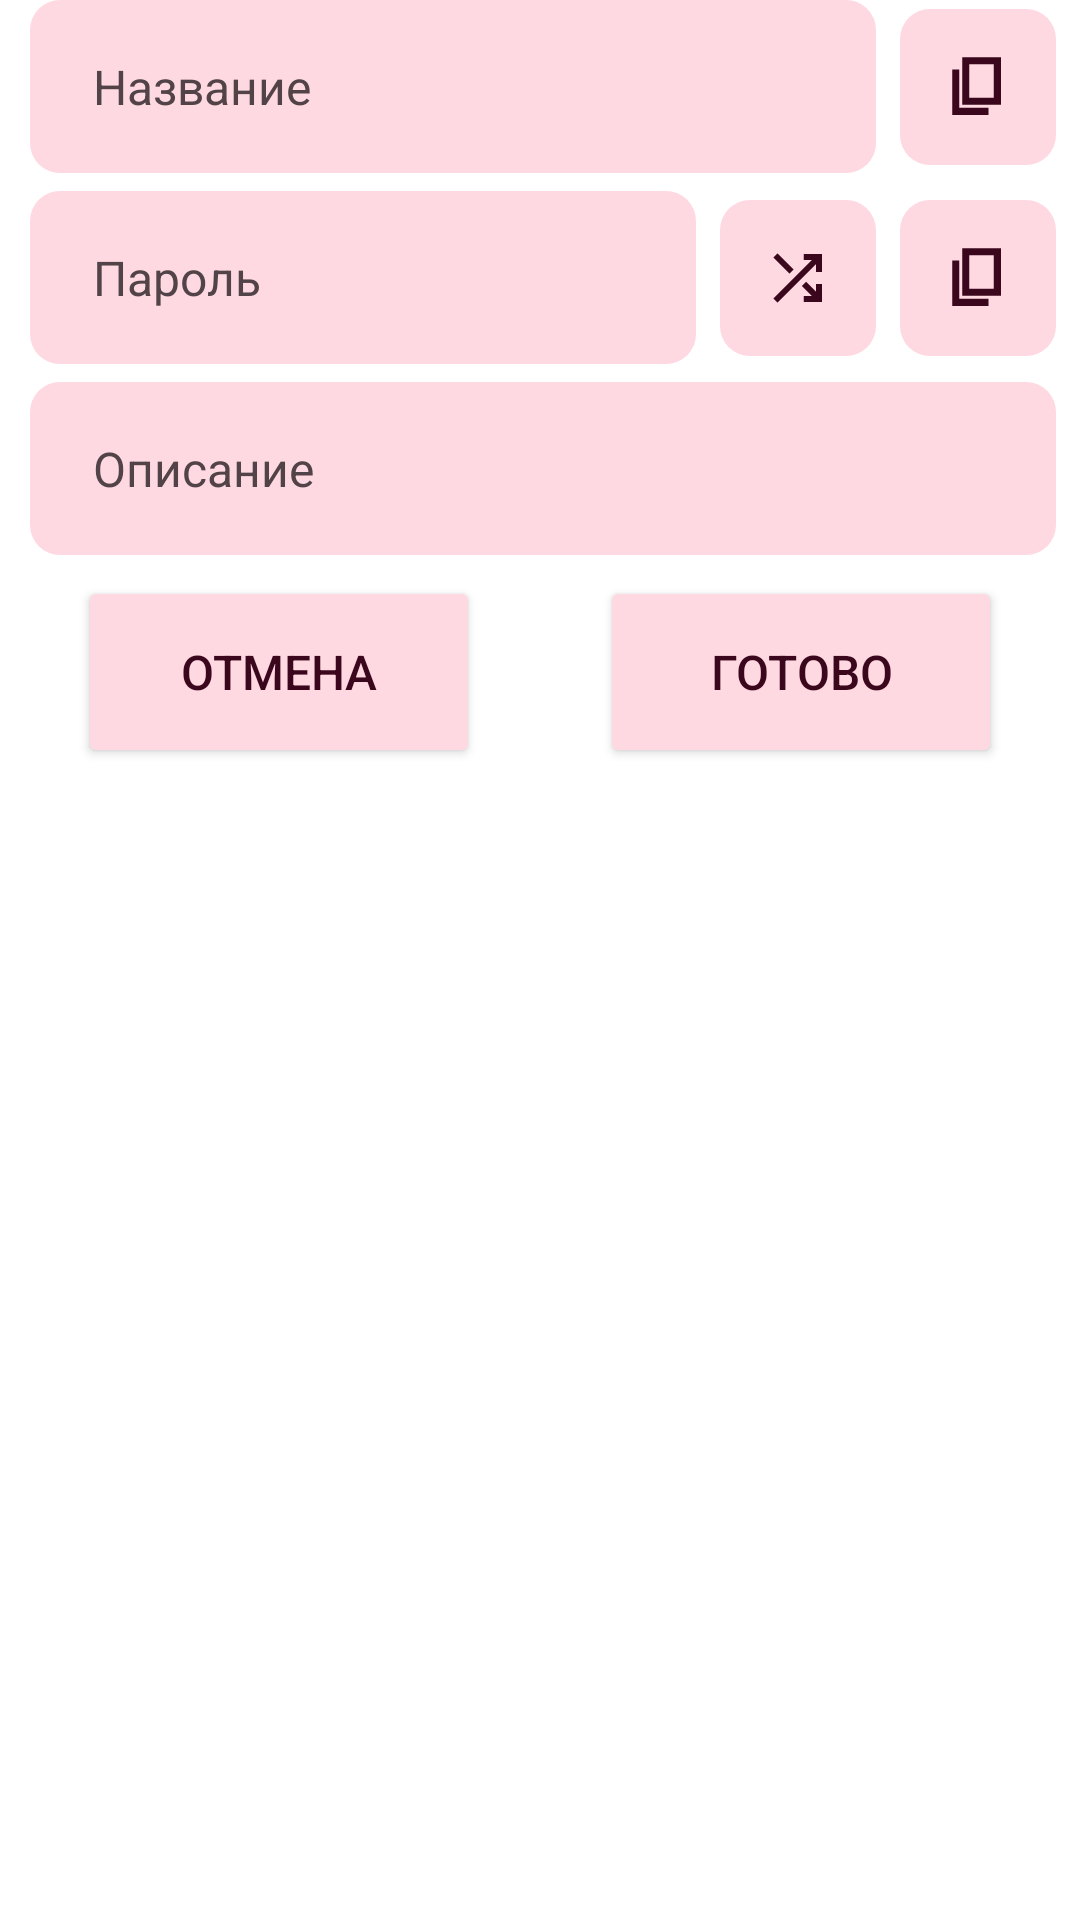

Screen size 1080*1920. Icon name, then its center in pixels as [x,y]:
copytext: [978,87], [978,278]
randompassword: [798,278]
